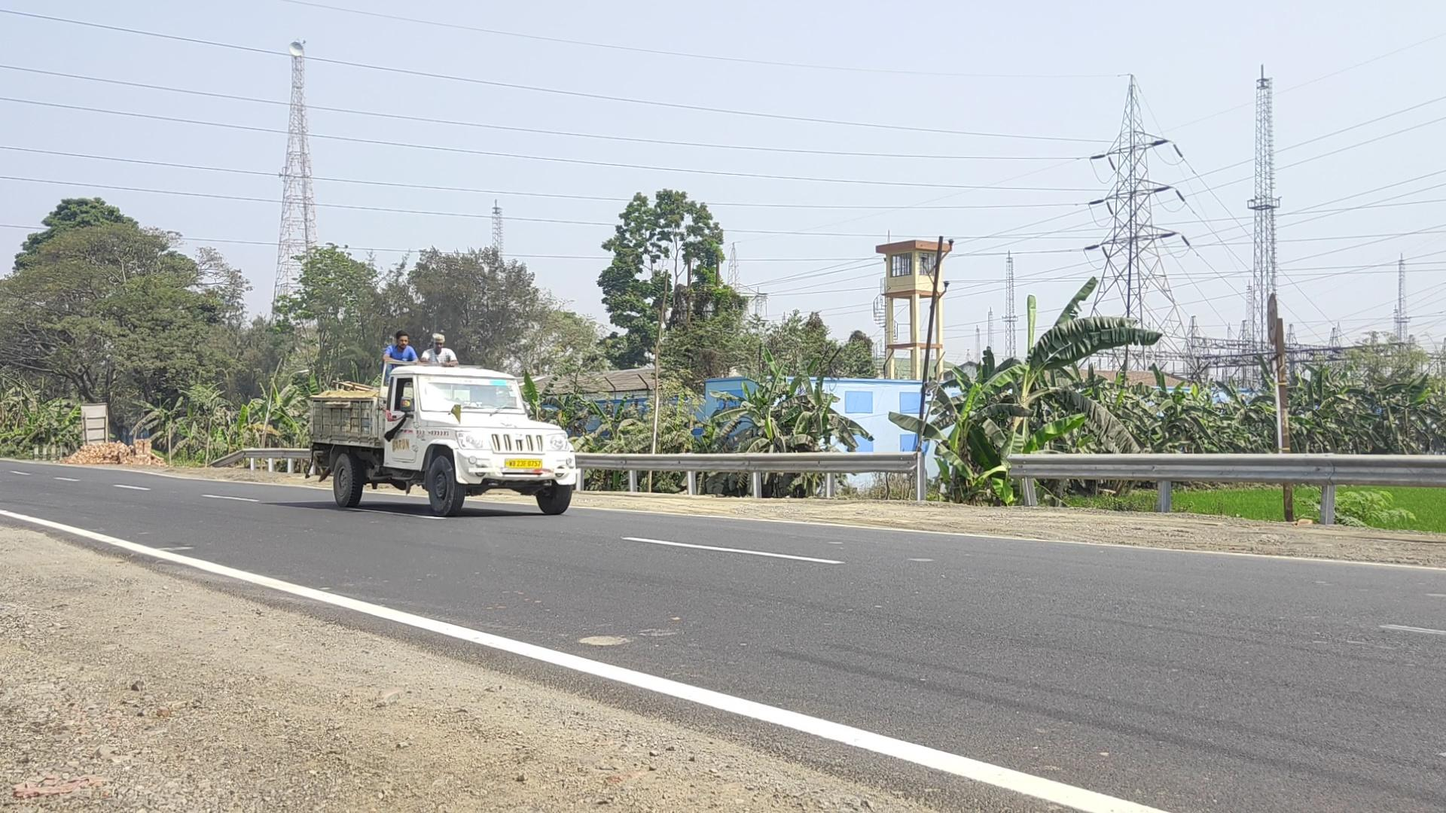van: (309, 330, 577, 517)
